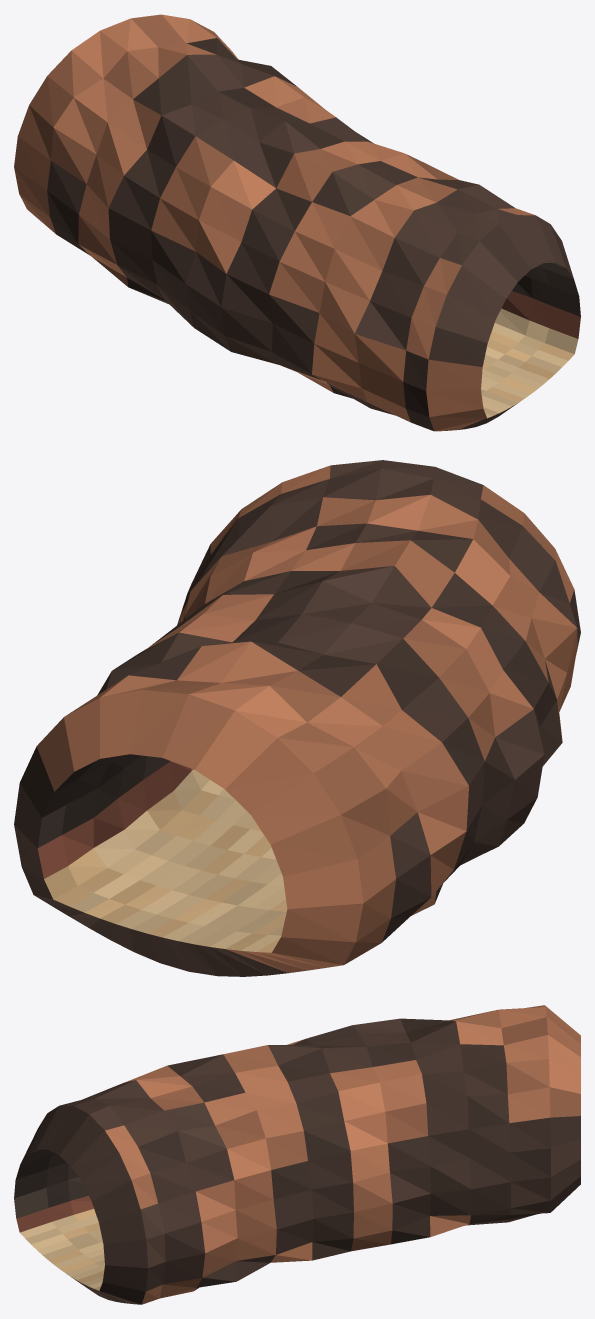
Rendered from lava_tube_run_bend_p30.glb.
3 views of the same model, one above another, from view 1: azimuth 30°, elevation 25°; view 2: azimuth 150°, elevation 25°; view 3: azimuth 270°, elevation 25° (orthographic). The views are drawn at different scales.
Visible parts, largest first — view 1: lava_tube_run_bend_p30; view 2: lava_tube_run_bend_p30; view 3: lava_tube_run_bend_p30.
Boxes of the visible parts, x1,y1,x2,y2 form: lava_tube_run_bend_p30: (14,14,580,431); lava_tube_run_bend_p30: (14,460,580,976); lava_tube_run_bend_p30: (14,1005,580,1304).
Bounding box in the file's own units: 31.47 × 21.52 × 49.84.
